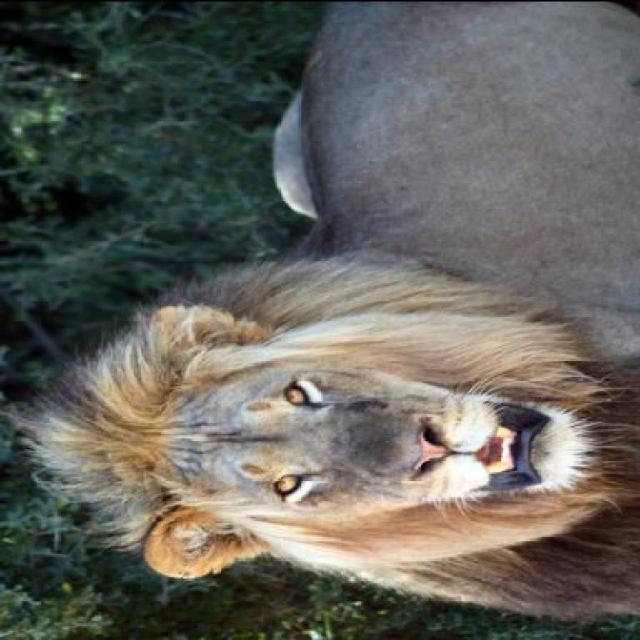Lion: (12, 1, 638, 622)
